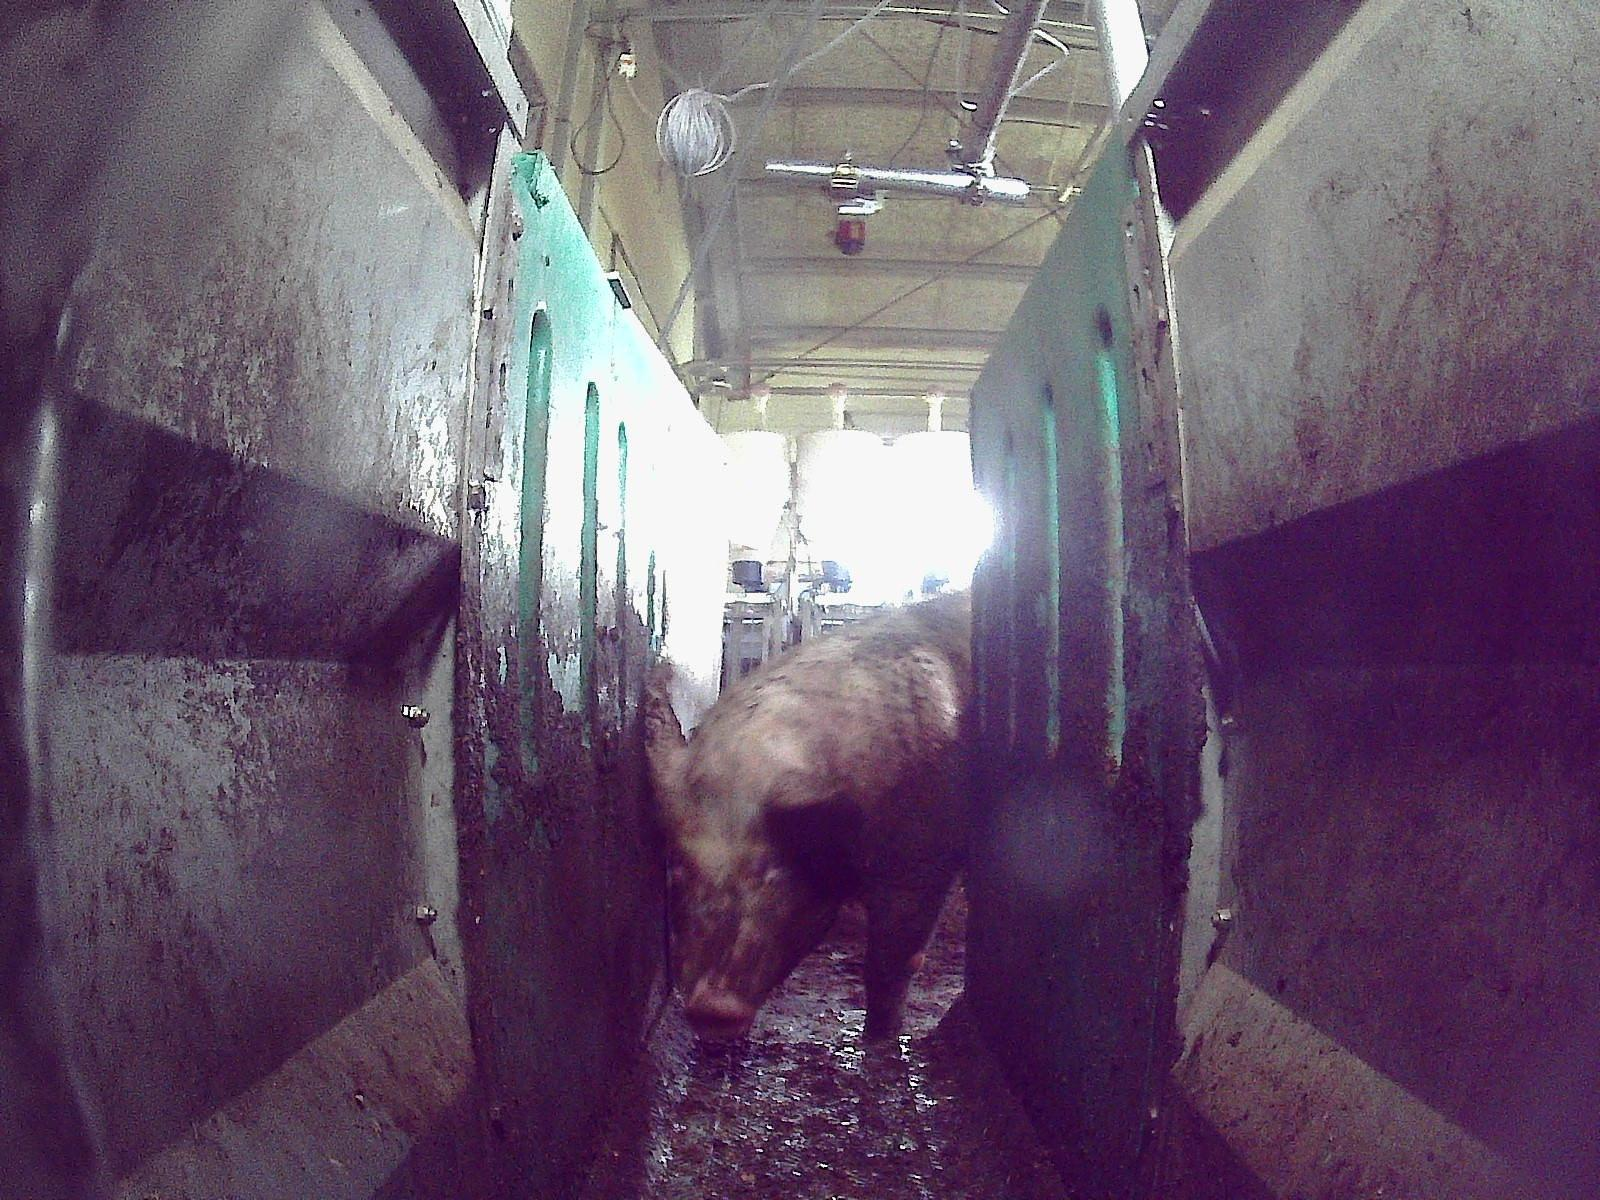Face: (655, 786, 825, 1037)
